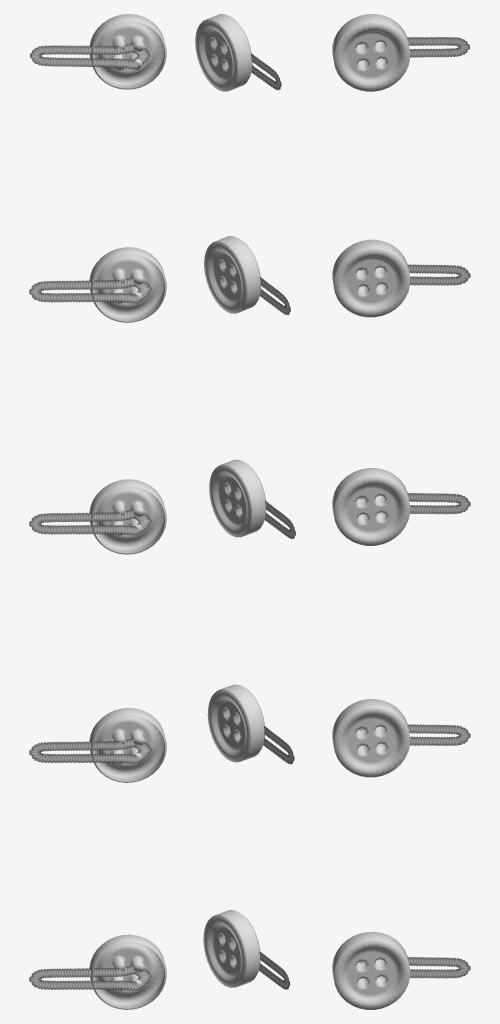
The model's file is 5_buttons.glb.
The picture shows the model from 3 angles, left to right: view 1: azimuth 90°, elevation 25°; view 2: azimuth 210°, elevation 25°; view 3: azimuth 270°, elevation 25°; orthographic projection. The views are drawn at different scales.
Visible parts, largest first — view 1: SM_Button_5; view 2: SM_Button_5; view 3: SM_Button_5.
Part boxes in pixels (box(x1,y1,x2,y2)): SM_Button_5: box(29, 14, 166, 1009); SM_Button_5: box(195, 14, 295, 989); SM_Button_5: box(332, 14, 470, 1009).
Size of the model in its own units: 0.0431 by 1.1 by 0.1545.
2 materials, 1 textured.
